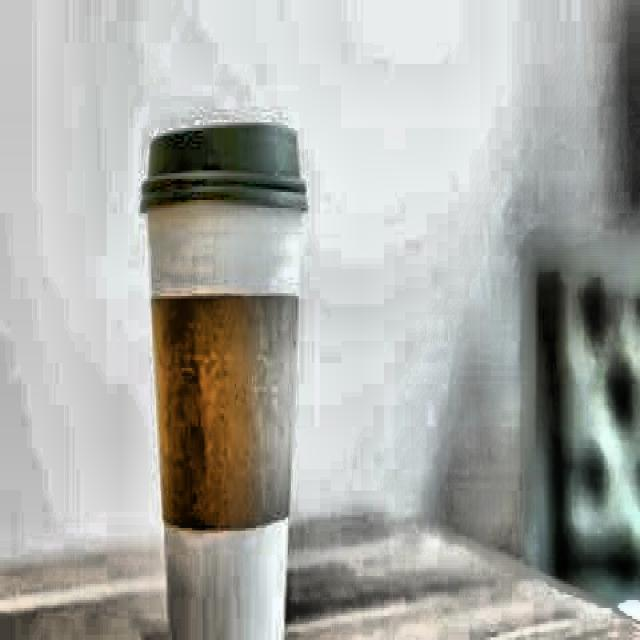Cup: (127, 125, 313, 640)
